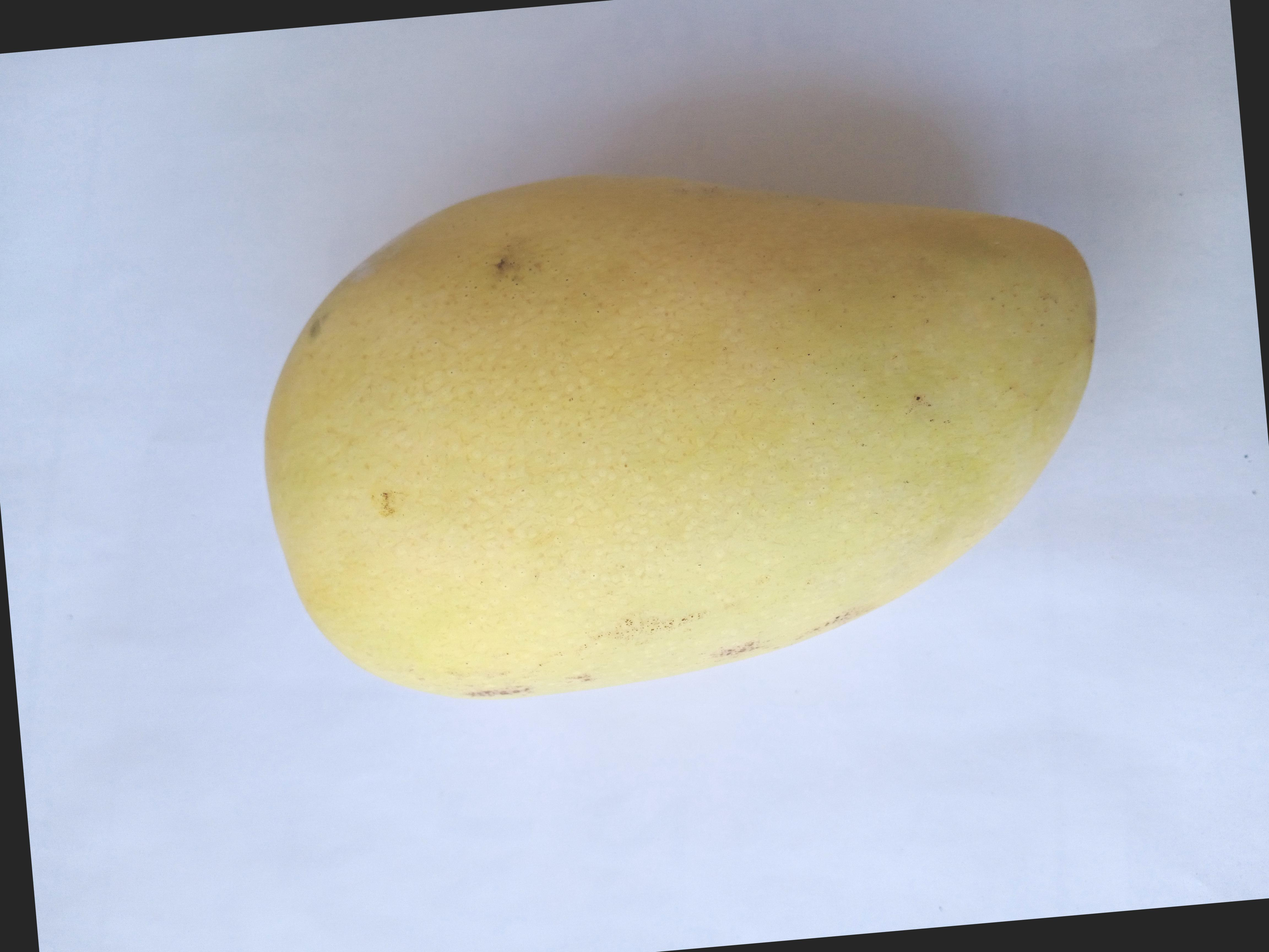Mango Ripe: (125, 140, 1138, 860)
